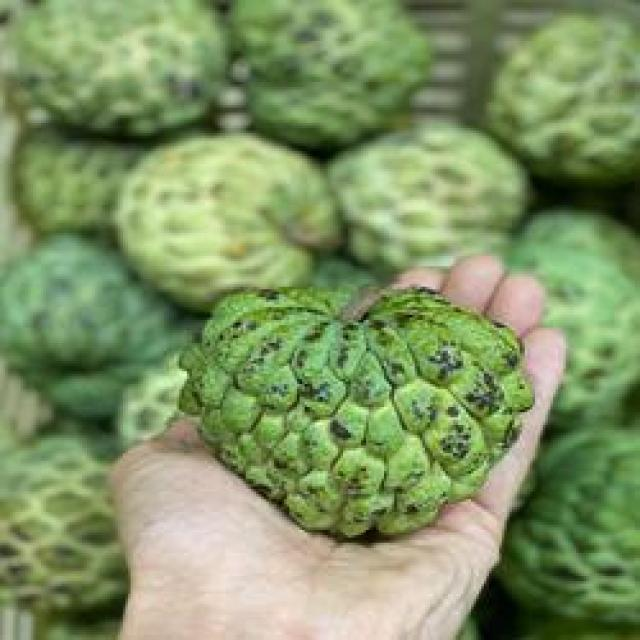apple: (161, 264, 538, 540)
